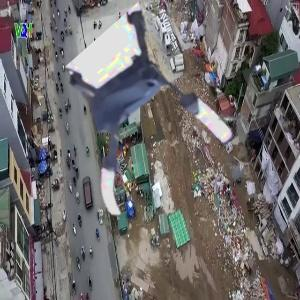drone: (47, 36, 223, 212)
